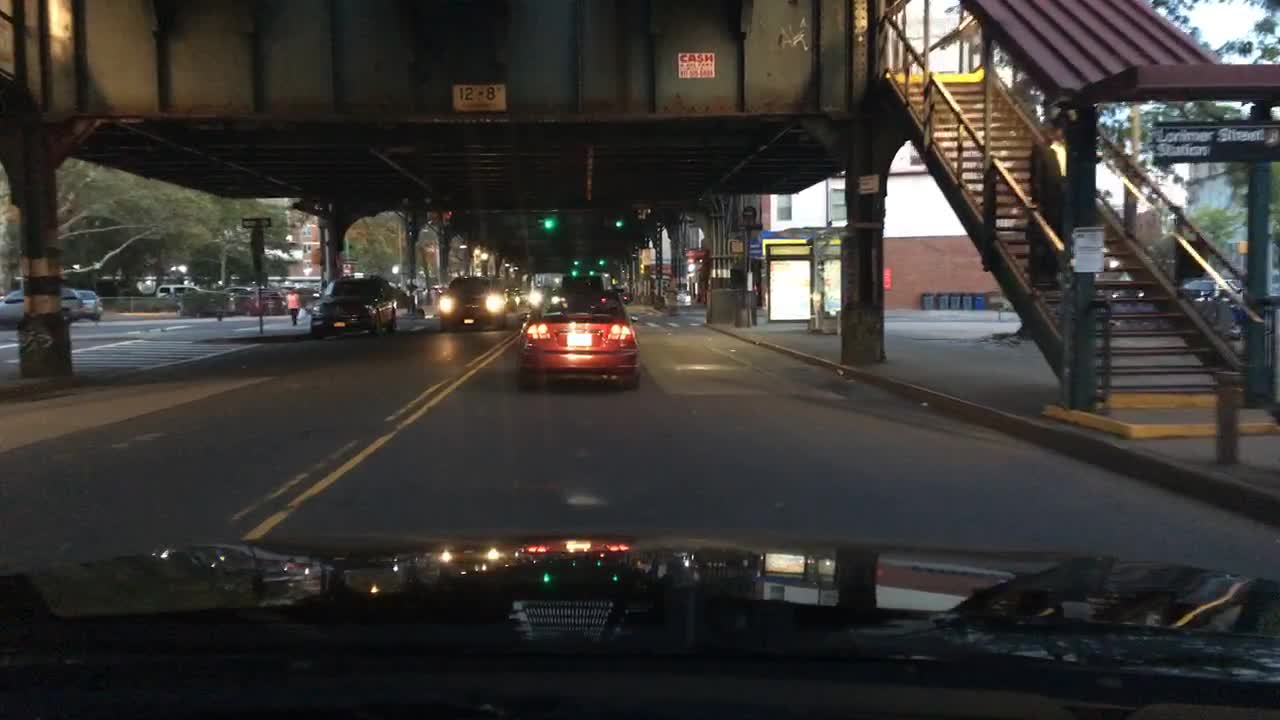car: (514, 290, 642, 391), (310, 273, 398, 339), (1178, 274, 1248, 341), (437, 273, 508, 330), (0, 284, 83, 331), (175, 289, 228, 319), (244, 285, 287, 317), (74, 287, 103, 323), (413, 284, 441, 320), (155, 284, 201, 305), (219, 285, 250, 314), (502, 284, 531, 310), (394, 284, 414, 310), (663, 289, 691, 307), (619, 285, 635, 303)
person: (288, 286, 300, 325)
traffic light: (1237, 239, 1249, 255), (541, 218, 556, 229), (731, 240, 744, 252), (615, 219, 624, 227), (598, 258, 606, 267), (572, 259, 580, 264)
traffic sign: (241, 214, 272, 229)
truck: (560, 273, 614, 294)
